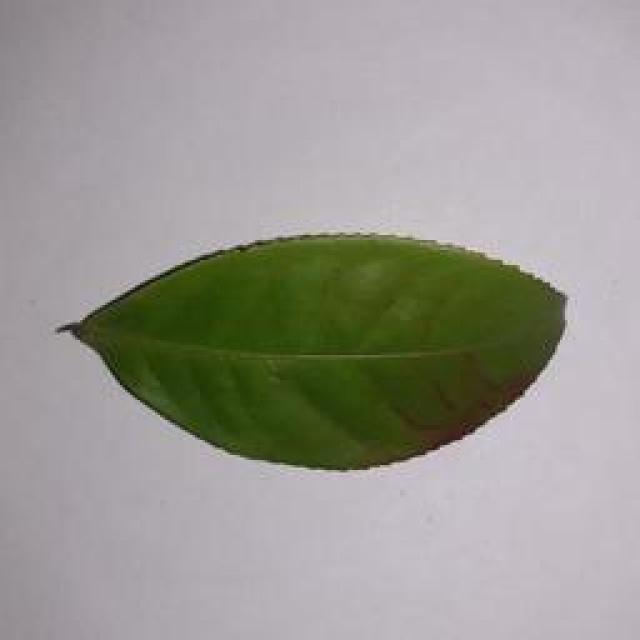Red Leaf Spot: (57, 235, 586, 476)
